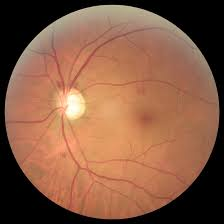Glaucoma section-1: (67, 98, 80, 113)
Glaucoma section-2: (57, 88, 87, 119)
